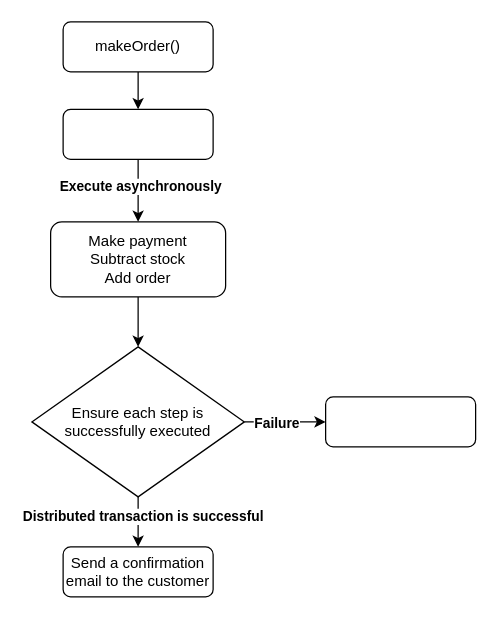
Some shapes in this 498 by 619 pixel diagram are drawn without their labels. Here are the shapes that lost their labels. From the top down, the box of each, then its label:
(62, 108, 213, 159): Get customer's info
(324, 396, 476, 447): Revert completed local transactions
